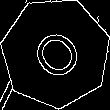O_SE: (23, 19, 88, 86)
